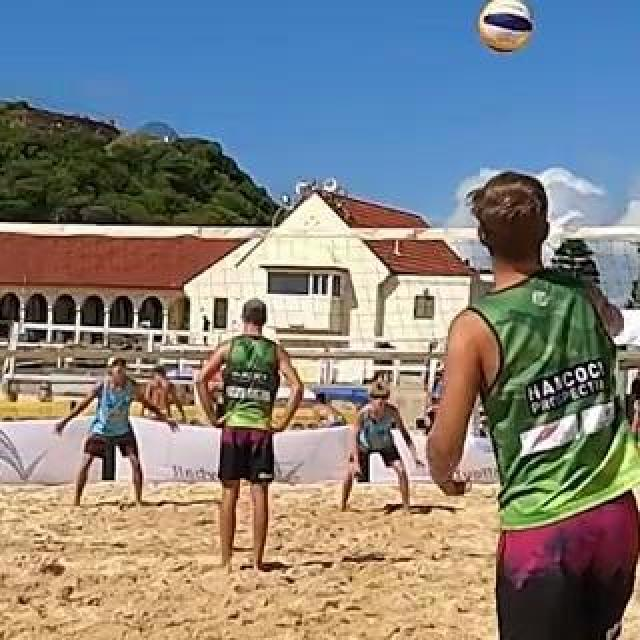volleyball: (479, 0, 533, 52)
